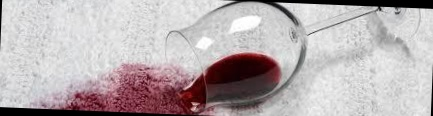wine: (38, 58, 201, 115)
